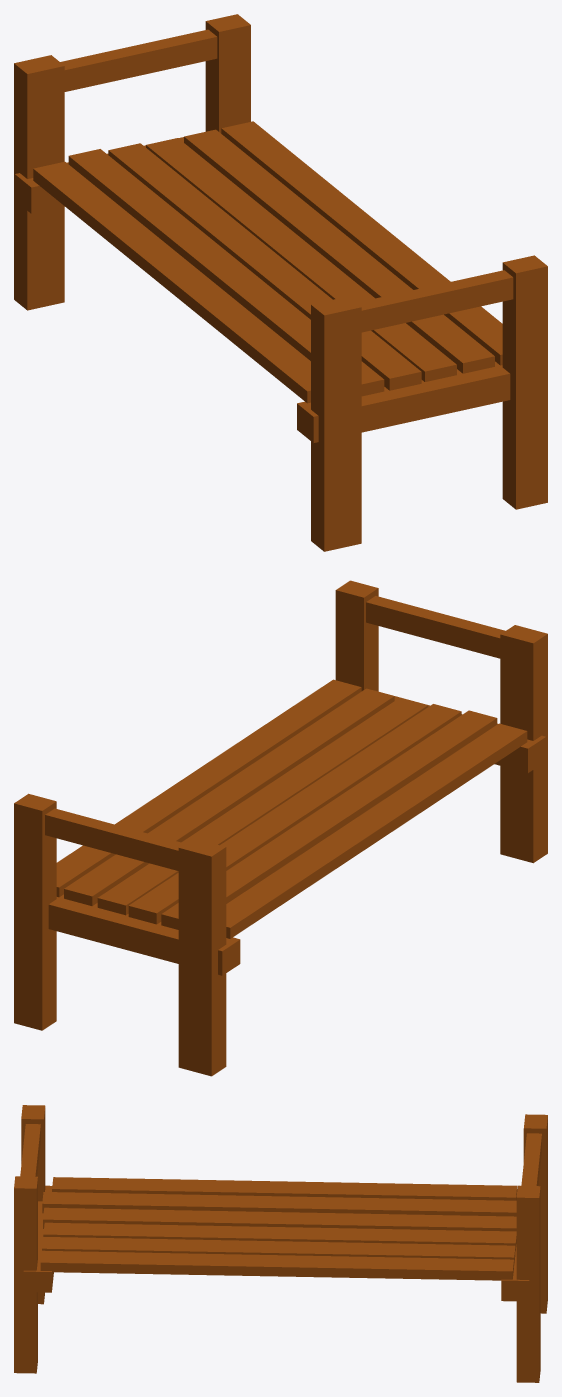
File: krovatka.fbx
The picture shows the model from 3 angles, top to bottom: view 1: azimuth 30°, elevation 25°; view 2: azimuth 150°, elevation 25°; view 3: azimuth 270°, elevation 25°; orthographic projection. The views are drawn at different scales.
Parts seen in each view (by area): view 1: bed1; view 2: bed1; view 3: bed1.
Part boxes in pixels (bbox=[...]): bed1: bbox=[14, 14, 547, 551]; bed1: bbox=[14, 580, 547, 1076]; bed1: bbox=[14, 1105, 547, 1382].
Size of the model in its own units: 126 by 114 by 298.
